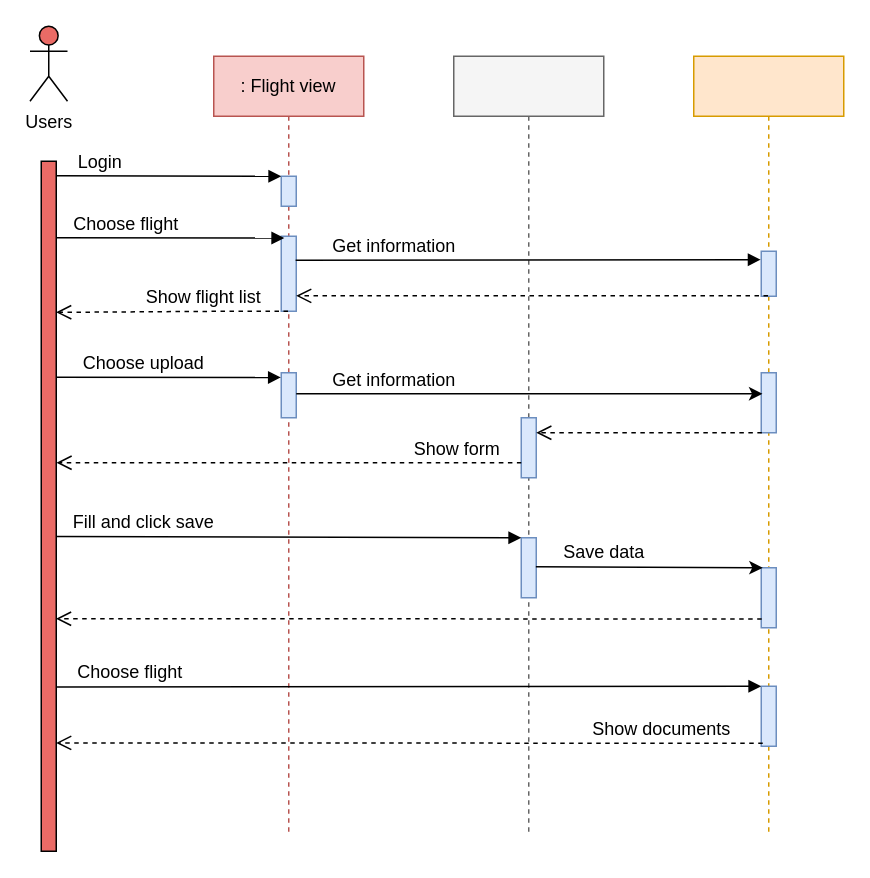
The diagram is 870 pixels wide and 878 high, and some of its shapes have lost their labels. Here are the shapes that lost their labels. From the top down, the centre of each, then its label:
(528,445): :Front End
(768,445): :Flight Docs server
